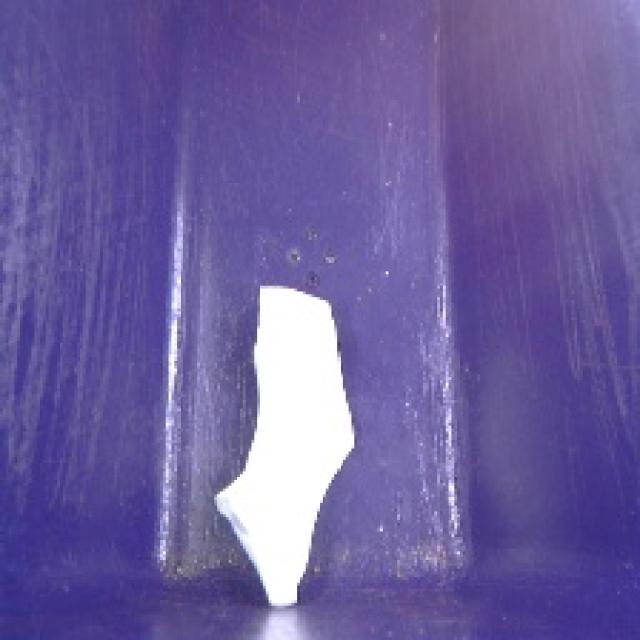china: (202, 275, 372, 618)
